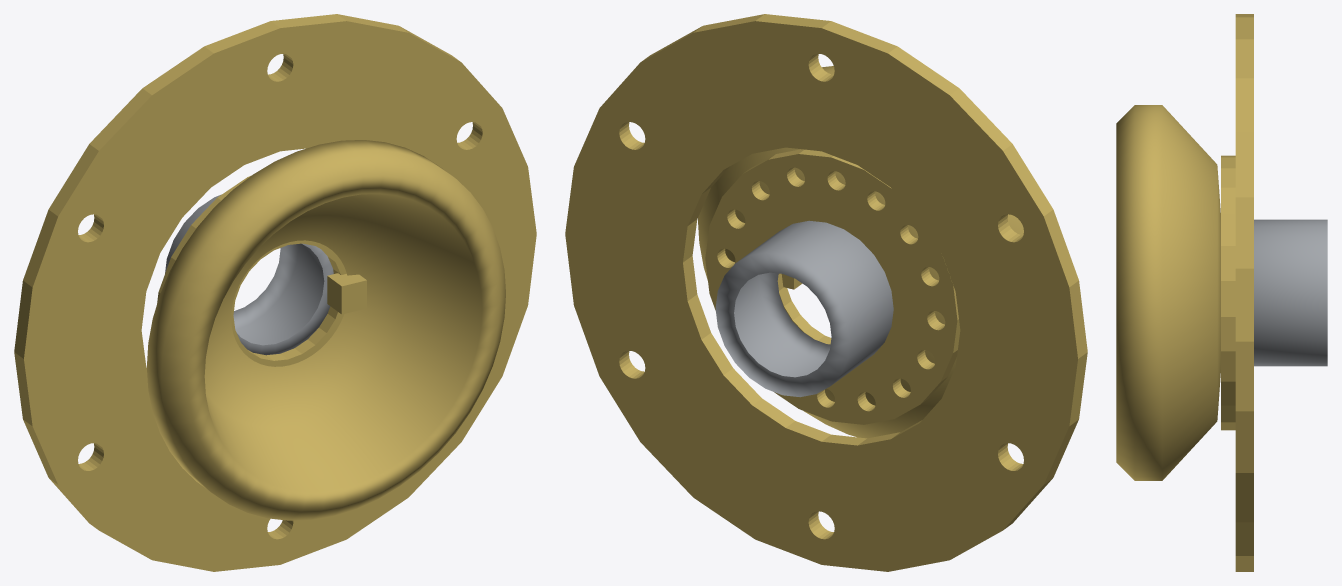
Rendered from fan-hub.glb.
3 views of the same model, side by side, from view 1: azimuth 30°, elevation 25°; view 2: azimuth 150°, elevation 25°; view 3: azimuth 270°, elevation 25° (orthographic). The views are drawn at different scales.
Parts seen in each view (by area): view 1: fan-hub:yellowZinc, fan-hub:steel; view 2: fan-hub:yellowZinc, fan-hub:steel; view 3: fan-hub:yellowZinc, fan-hub:steel.
Part boxes in pixels (bbox=[...]): fan-hub:yellowZinc: bbox=[14, 14, 536, 571]; fan-hub:steel: bbox=[165, 194, 333, 355]; fan-hub:yellowZinc: bbox=[565, 14, 1087, 571]; fan-hub:steel: bbox=[715, 220, 893, 397]; fan-hub:yellowZinc: bbox=[1116, 14, 1253, 571]; fan-hub:steel: bbox=[1254, 219, 1327, 366].
Size of the model in its own units: 122 by 122 by 46.
